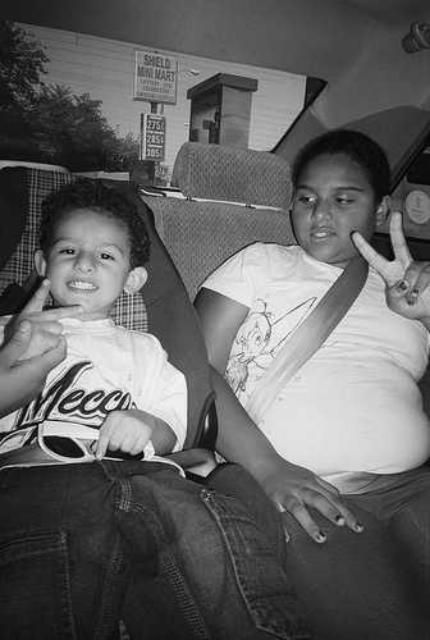SafeDriving: (92, 244, 122, 266), (51, 241, 82, 262), (330, 190, 361, 207), (294, 190, 320, 208)
Seatbelt: (238, 247, 376, 431)
